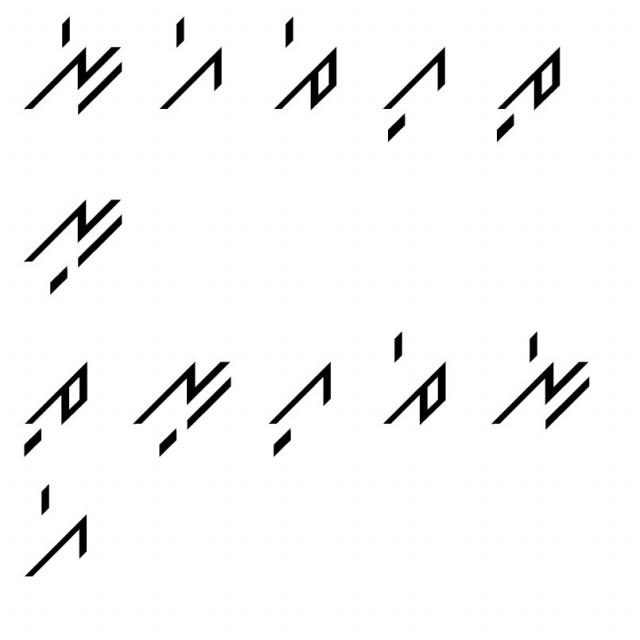ge: (155, 13, 230, 117), (22, 473, 92, 583)
gu: (263, 356, 342, 464), (376, 41, 454, 145)
nge: (483, 322, 594, 441), (15, 16, 129, 114)
ngu: (20, 188, 133, 296), (130, 344, 233, 456)
te: (378, 330, 456, 434), (264, 12, 343, 114)
tu: (15, 348, 96, 460), (487, 39, 569, 144)
